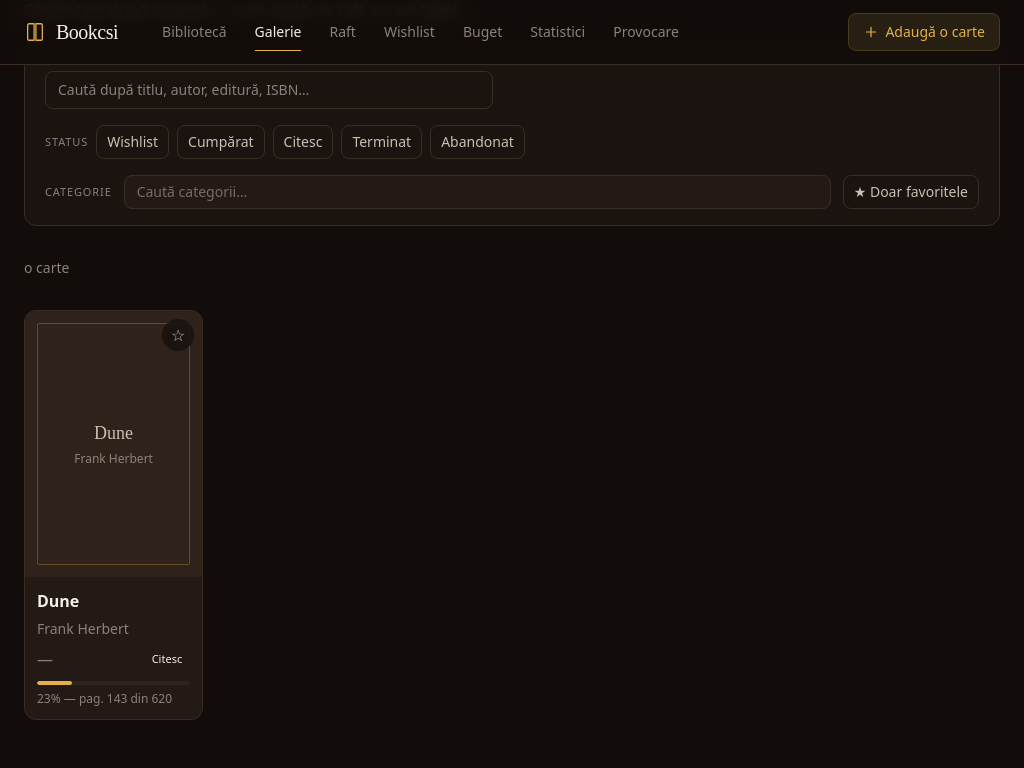
BookProfilePage — the way back (§D41) › names the screen the user came from
This screenshot has width=1024, height=768.
(page scrolled)
Click the button "Dune": {"x": 114, "y": 601} [37,589,190,613]
(page scrolled)
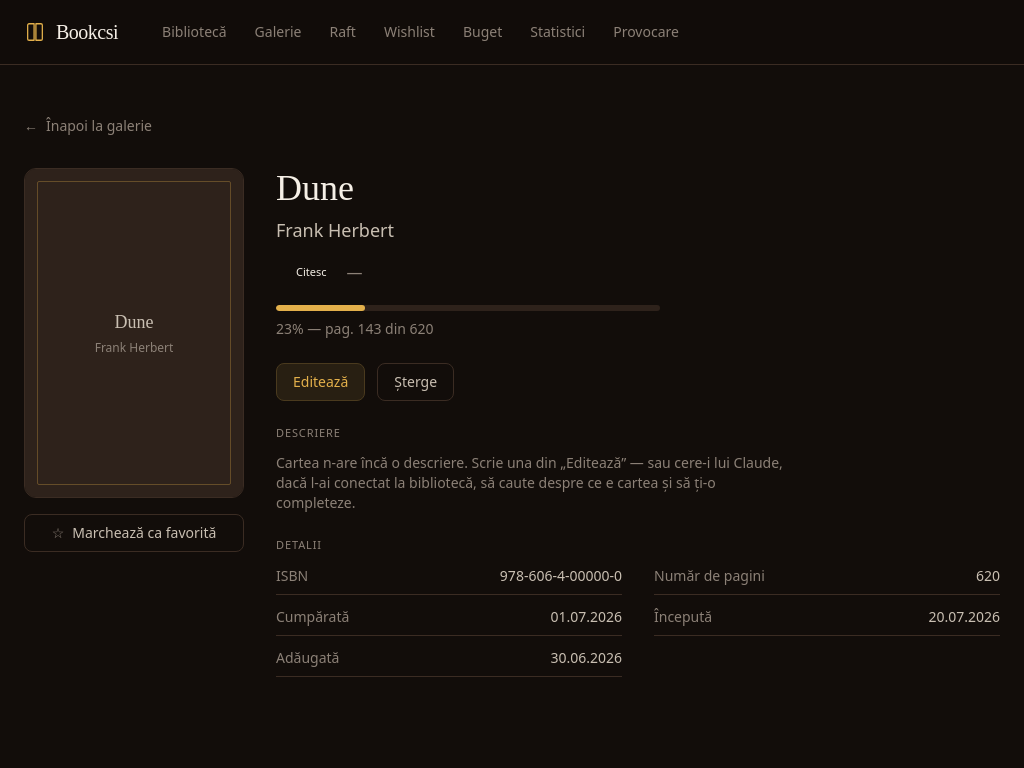
Result: the link "← Înapoi la galerie" is shown at [24,116,152,136]
